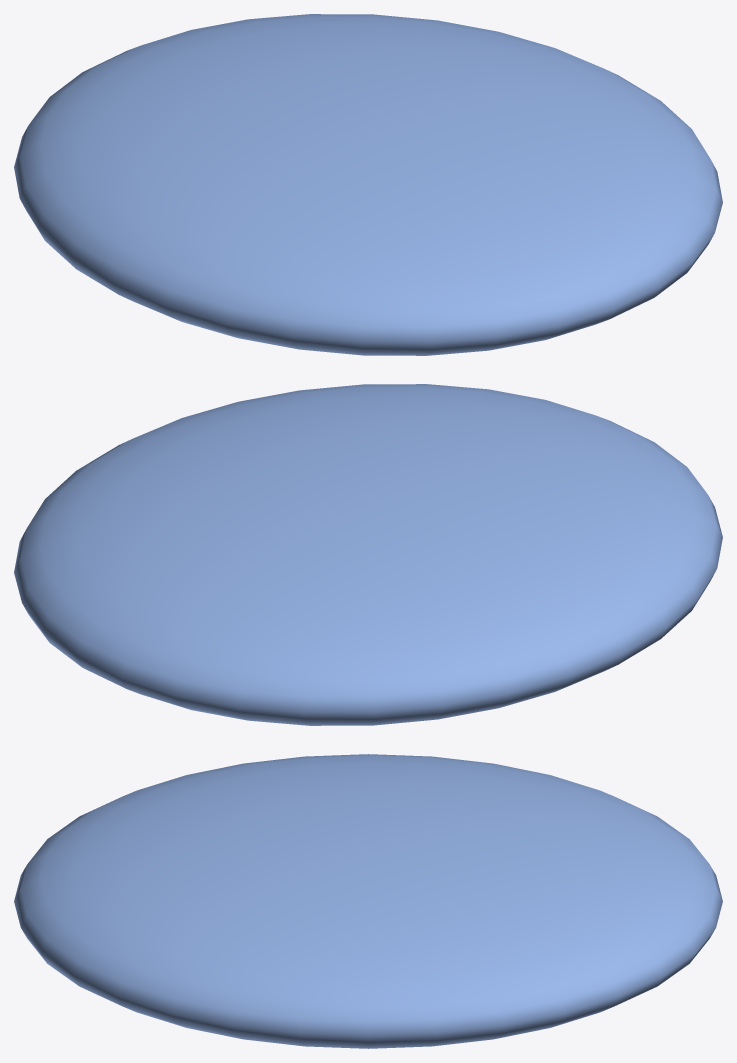
Rendered from platilloVolador.glb.
3 renders of one model, top to bottom at view 1: azimuth 30°, elevation 25°; view 2: azimuth 150°, elevation 25°; view 3: azimuth 270°, elevation 25°, orthographic. The views are drawn at different scales.
Visible parts, largest first — view 1: Esfera; view 2: Esfera; view 3: Esfera.
Part boxes in pixels (x1=…): Esfera: x1=14, y1=14, x2=722, y2=355; Esfera: x1=14, y1=384, x2=722, y2=725; Esfera: x1=14, y1=754, x2=722, y2=1048.
Size of the model in its own units: 8.94 by 1.88 by 9.97.
